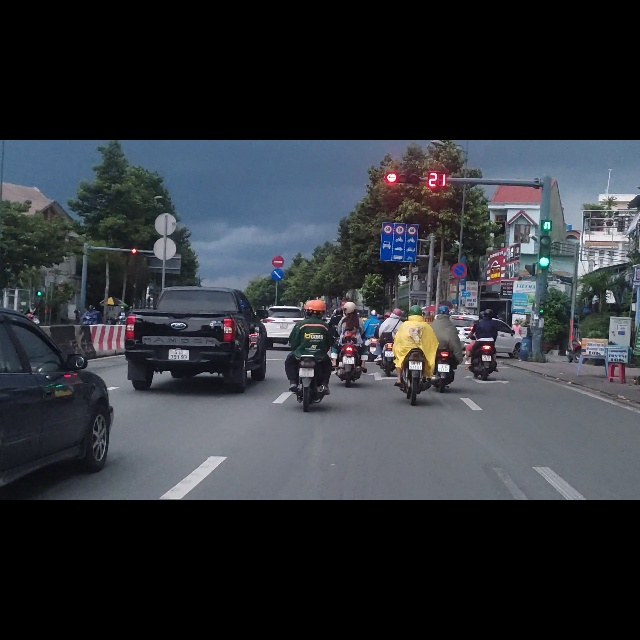bien_chi_dan: (380, 169, 416, 217), (452, 218, 467, 245), (271, 229, 284, 251), (272, 205, 285, 226), (383, 149, 392, 166), (395, 151, 404, 167), (407, 153, 417, 167)
